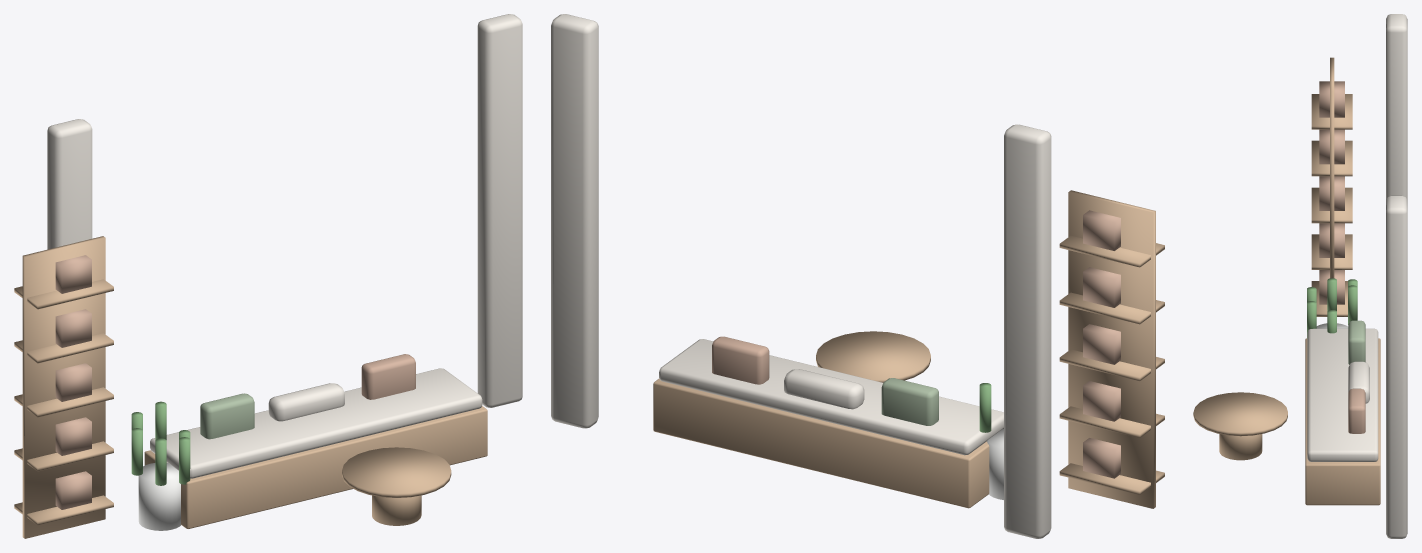
The model's file is room_bay_seating.glb.
3 renders of one model, left to right at view 1: azimuth 30°, elevation 25°; view 2: azimuth 150°, elevation 25°; view 3: azimuth 270°, elevation 25°, orthographic. The views are drawn at different scales.
Parts seen in each view (by area): view 1: Curtain_Right, Shelf_Back, Bay_Bench_Base, Bay_Bench_Cushion, Curtain_Left, Table_Top, Planter_Pot, Bay_Pillow_Sage, Bay_Pillow_Terra, Bay_Bolster, Table_Base, Books_3 (+9 smaller); view 2: Curtain_Right, Curtain_Left, Bay_Bench_Base, Shelf_Back, Bay_Bench_Cushion, Table_Top, Bay_Pillow_Terra, Bay_Pillow_Sage, Bay_Bolster, Books_3, Books_1, Books_2 (+8 smaller); view 3: Bay_Bench_Cushion, Curtain_Right, Bay_Bench_Base, Curtain_Left, Table_Top, Shelf_Back, Table_Base, Shelf_2, Shelf_3, Shelf_4, Shelf_1, Books_4 (+11 smaller).
Part boxes in pixels (x1,y1,x2,y2): Curtain_Right: [477, 14, 522, 407]; Shelf_Back: [22, 236, 105, 538]; Bay_Bench_Base: [144, 406, 487, 528]; Bay_Bench_Cushion: [150, 368, 482, 478]; Curtain_Left: [47, 119, 92, 249]; Table_Top: [342, 447, 451, 497]; Planter_Pot: [138, 463, 180, 530]; Bay_Pillow_Sage: [200, 393, 254, 439]; Bay_Pillow_Terra: [361, 354, 415, 399]; Bay_Bolster: [268, 383, 344, 421]; Table_Base: [372, 495, 421, 525]; Books_3: [55, 309, 91, 347]; Curtain_Right: [551, 14, 598, 428]; Curtain_Left: [1004, 124, 1051, 538]; Bay_Bench_Base: [653, 378, 989, 508]; Shelf_Back: [1068, 190, 1155, 508]; Bay_Bench_Cushion: [659, 339, 1003, 455]; Table_Top: [816, 331, 930, 382]; Bay_Pillow_Terra: [712, 336, 769, 384]; Bay_Pillow_Sage: [881, 378, 938, 425]; Bay_Bolster: [784, 369, 864, 409]; Books_3: [1083, 267, 1120, 307]; Books_1: [1083, 381, 1120, 421]; Books_2: [1083, 324, 1120, 364]; Bay_Bench_Cushion: [1307, 328, 1378, 461]; Curtain_Right: [1386, 195, 1407, 538]; Bay_Bench_Base: [1305, 338, 1380, 505]; Curtain_Left: [1386, 14, 1407, 200]; Table_Top: [1193, 392, 1287, 436]; Shelf_Back: [1330, 57, 1334, 278]; Table_Base: [1219, 434, 1262, 460]; Shelf_2: [1311, 187, 1352, 223]; Shelf_3: [1311, 140, 1352, 176]; Shelf_4: [1311, 94, 1352, 129]; Shelf_1: [1311, 234, 1352, 269]; Books_4: [1319, 81, 1344, 117].
Size of the model in its own units: 4.95 by 3.4 by 1.99.
